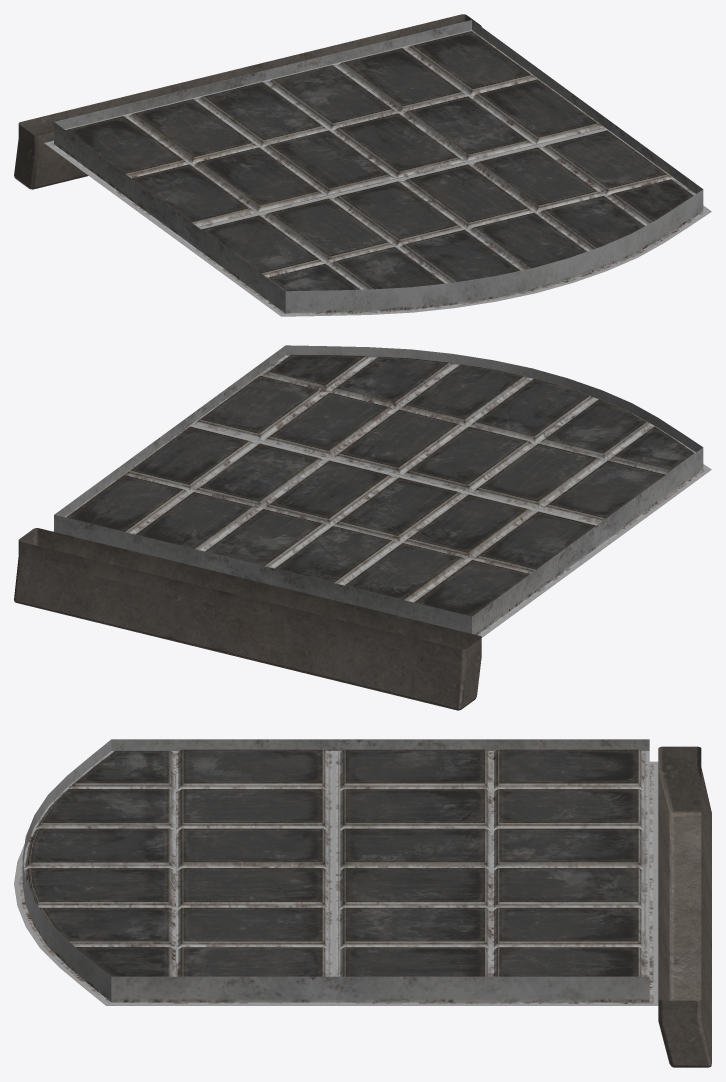
The model's file is window_centered_medium_02.gltf.
3 renders of one model, top to bottom at view 1: azimuth 30°, elevation 25°; view 2: azimuth 150°, elevation 25°; view 3: azimuth 270°, elevation 25°, orthographic. The views are drawn at different scales.
Parts seen in each view (by area): view 1: window_centered_medium_02; view 2: window_centered_medium_02; view 3: window_centered_medium_02.
Boxes of the visible parts, x1,y1,x2,y2 form: window_centered_medium_02: [14, 14, 711, 316]; window_centered_medium_02: [14, 345, 711, 710]; window_centered_medium_02: [14, 739, 711, 1067].
Size of the model in its own units: 1.4 by 0.2167 by 1.62.
Materials: 2 (2 with a texture image).
